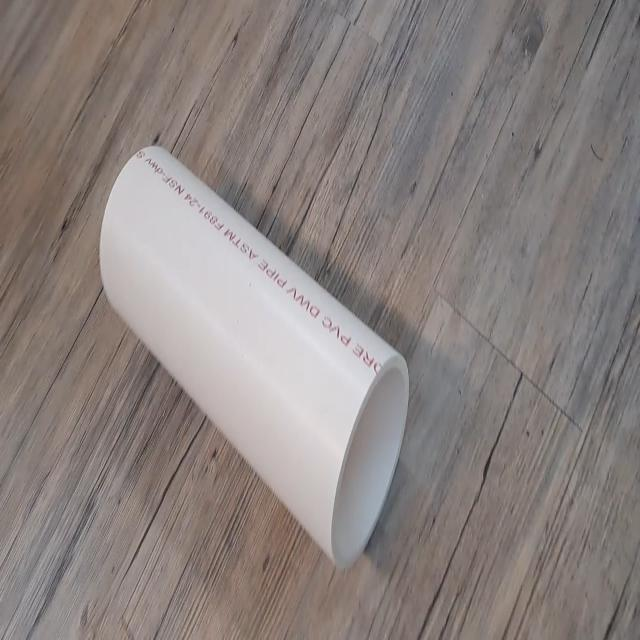CORAL: (82, 111, 434, 596)
